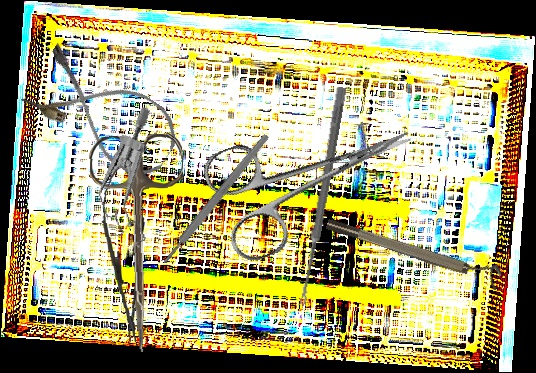Cannula: (19, 40, 189, 186)
Fixation Ring: (324, 208, 504, 291)
Iris Scissors: (198, 85, 433, 268), (88, 132, 193, 355)
Needle Holder: (97, 156, 154, 346)
Scalpel Handle: (160, 132, 271, 266)
Speculum: (73, 105, 192, 257)
Surgical Spoon: (297, 86, 347, 307)
